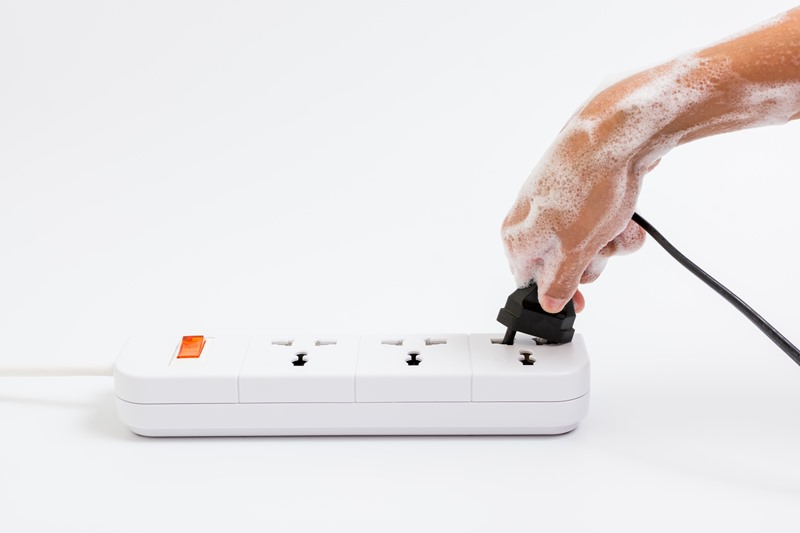Three_eye_plug: (98, 302, 607, 460)
